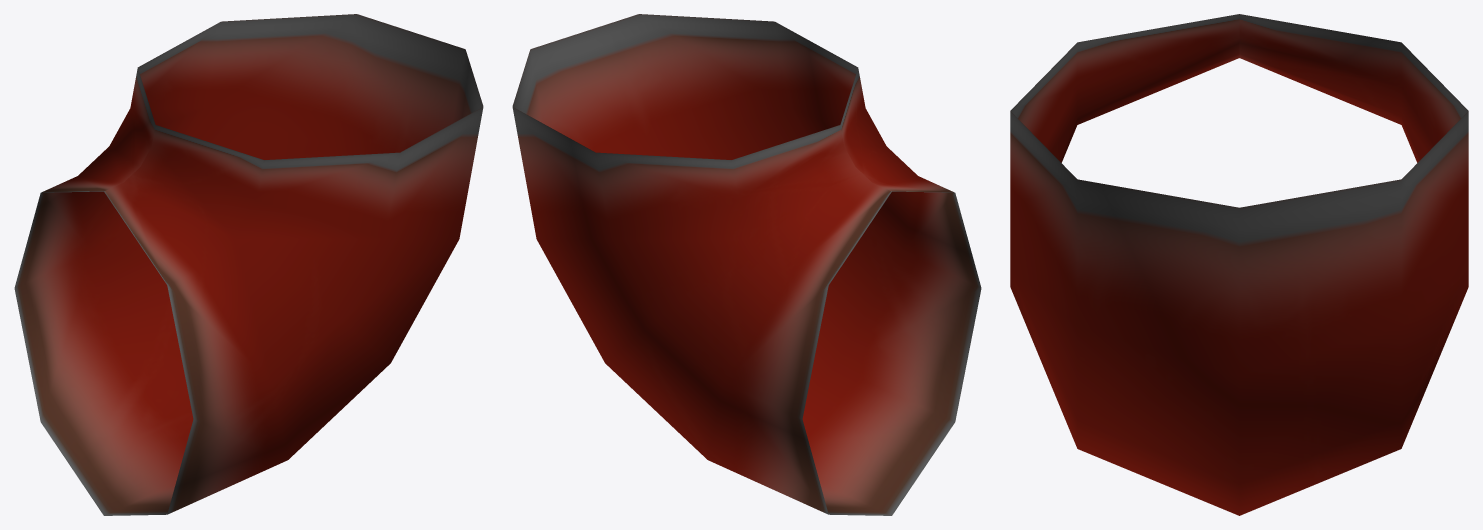
Rendered from pipe01_crn_8b_low.fbx.
The picture shows the model from 3 angles, left to right: view 1: azimuth 30°, elevation 25°; view 2: azimuth 150°, elevation 25°; view 3: azimuth 270°, elevation 25°; orthographic projection. The views are drawn at different scales.
Visible parts, largest first — view 1: pipe01_crn_8b_low; view 2: pipe01_crn_8b_low; view 3: pipe01_crn_8b_low.
Boxes of the visible parts, <box> form: pipe01_crn_8b_low: <box>14,14,483,515</box>; pipe01_crn_8b_low: <box>512,14,981,515</box>; pipe01_crn_8b_low: <box>1010,14,1468,515</box>.
Bounding box in the file's own units: 14 × 14 × 12.
